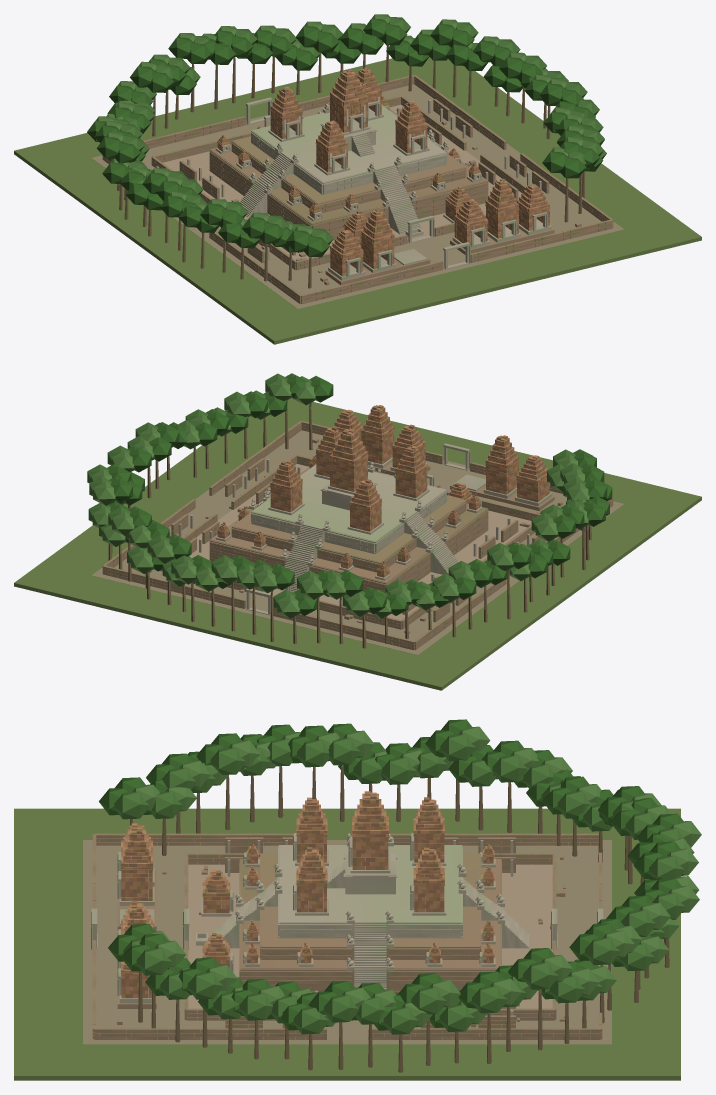
Rendered from pre-rup-normal.glb.
The picture shows the model from 3 angles, top to bottom: view 1: azimuth 30°, elevation 25°; view 2: azimuth 150°, elevation 25°; view 3: azimuth 270°, elevation 25°; orthographic projection. The views are drawn at different scales.
Parts seen in each view (by area): view 1: Peripheral grass, Broadleaf canopy 0, Laterite terraces, Sandstone mouldings, Dry earth, Weathered brick 0, Weathered brick 1, Weathered brick 2, Broadleaf canopy 1, Tree trunks, Broadleaf canopy 2, Paved courtyards; view 2: Peripheral grass, Laterite terraces, Broadleaf canopy 0, Sandstone mouldings, Broadleaf canopy 2, Dry earth, Weathered brick 0, Weathered brick 1, Weathered brick 2, Broadleaf canopy 1, Tree trunks, Paved courtyards; view 3: Peripheral grass, Laterite terraces, Broadleaf canopy 1, Sandstone mouldings, Broadleaf canopy 0, Dry earth, Broadleaf canopy 2, Tree trunks, Weathered brick 0, Weathered brick 1, Weathered brick 2, Paved courtyards.
Part boxes in pixels (box(x1,y1,x2,y2)): Peripheral grass: box(14, 57, 701, 344); Broadleaf canopy 0: box(87, 19, 603, 257); Laterite terraces: box(102, 75, 613, 304); Sandstone mouldings: box(156, 97, 552, 280); Dry earth: box(92, 84, 624, 308); Weathered brick 0: box(217, 69, 550, 272); Weathered brick 1: box(217, 69, 549, 276); Weathered brick 2: box(218, 67, 549, 275); Broadleaf canopy 1: box(113, 17, 606, 244); Tree trunks: box(110, 45, 584, 288); Broadleaf canopy 2: box(95, 14, 584, 234); Paved courtyards: box(163, 104, 522, 259); Peripheral grass: box(14, 398, 701, 690); Laterite terraces: box(102, 421, 613, 650); Broadleaf canopy 0: box(107, 373, 612, 615); Sandstone mouldings: box(169, 443, 552, 619); Broadleaf canopy 2: box(91, 378, 589, 618); Dry earth: box(91, 430, 623, 654); Weathered brick 0: box(217, 405, 549, 577); Weathered brick 1: box(218, 405, 549, 576); Weathered brick 2: box(217, 405, 549, 575); Broadleaf canopy 1: box(87, 373, 585, 608); Tree trunks: box(108, 400, 591, 648); Paved courtyards: box(190, 464, 531, 619); Peripheral grass: box(14, 808, 680, 1080); Laterite terraces: box(92, 833, 602, 1039); Broadleaf canopy 1: box(114, 734, 687, 1034); Sandstone mouldings: box(91, 833, 603, 1015); Broadleaf canopy 0: box(99, 719, 683, 1030); Dry earth: box(83, 840, 611, 1044); Broadleaf canopy 2: box(132, 726, 701, 1027); Tree trunks: box(130, 765, 669, 1072); Weathered brick 0: box(121, 791, 494, 998); Weathered brick 1: box(121, 792, 494, 998); Weathered brick 2: box(121, 794, 493, 998); Paved courtyards: box(188, 864, 552, 1019).
Bounding box in the file's own units: 57.78 × 14.66 × 59.81.
